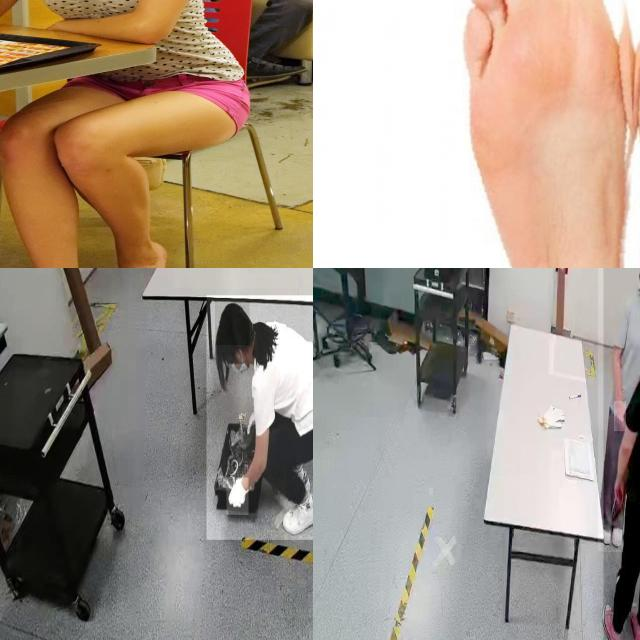Barefoots: (433, 0, 630, 268), (112, 241, 168, 268)
hand_glove: (227, 478, 249, 516)
hand_noglove: (614, 471, 626, 509), (614, 401, 626, 432)
head_nohelmet: (215, 302, 250, 346)
person: (206, 295, 313, 540), (603, 268, 640, 640), (598, 268, 640, 552)
shoes: (280, 489, 313, 539), (600, 598, 621, 640), (626, 590, 640, 640)
